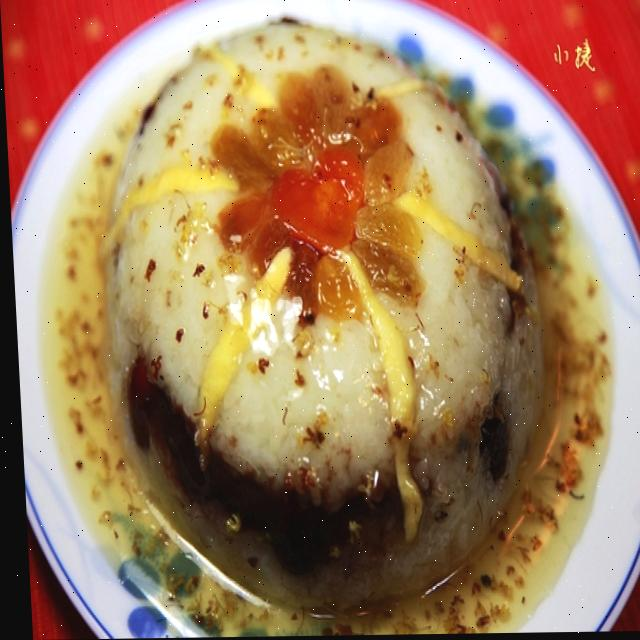米饭主食: (20, 12, 639, 630)
